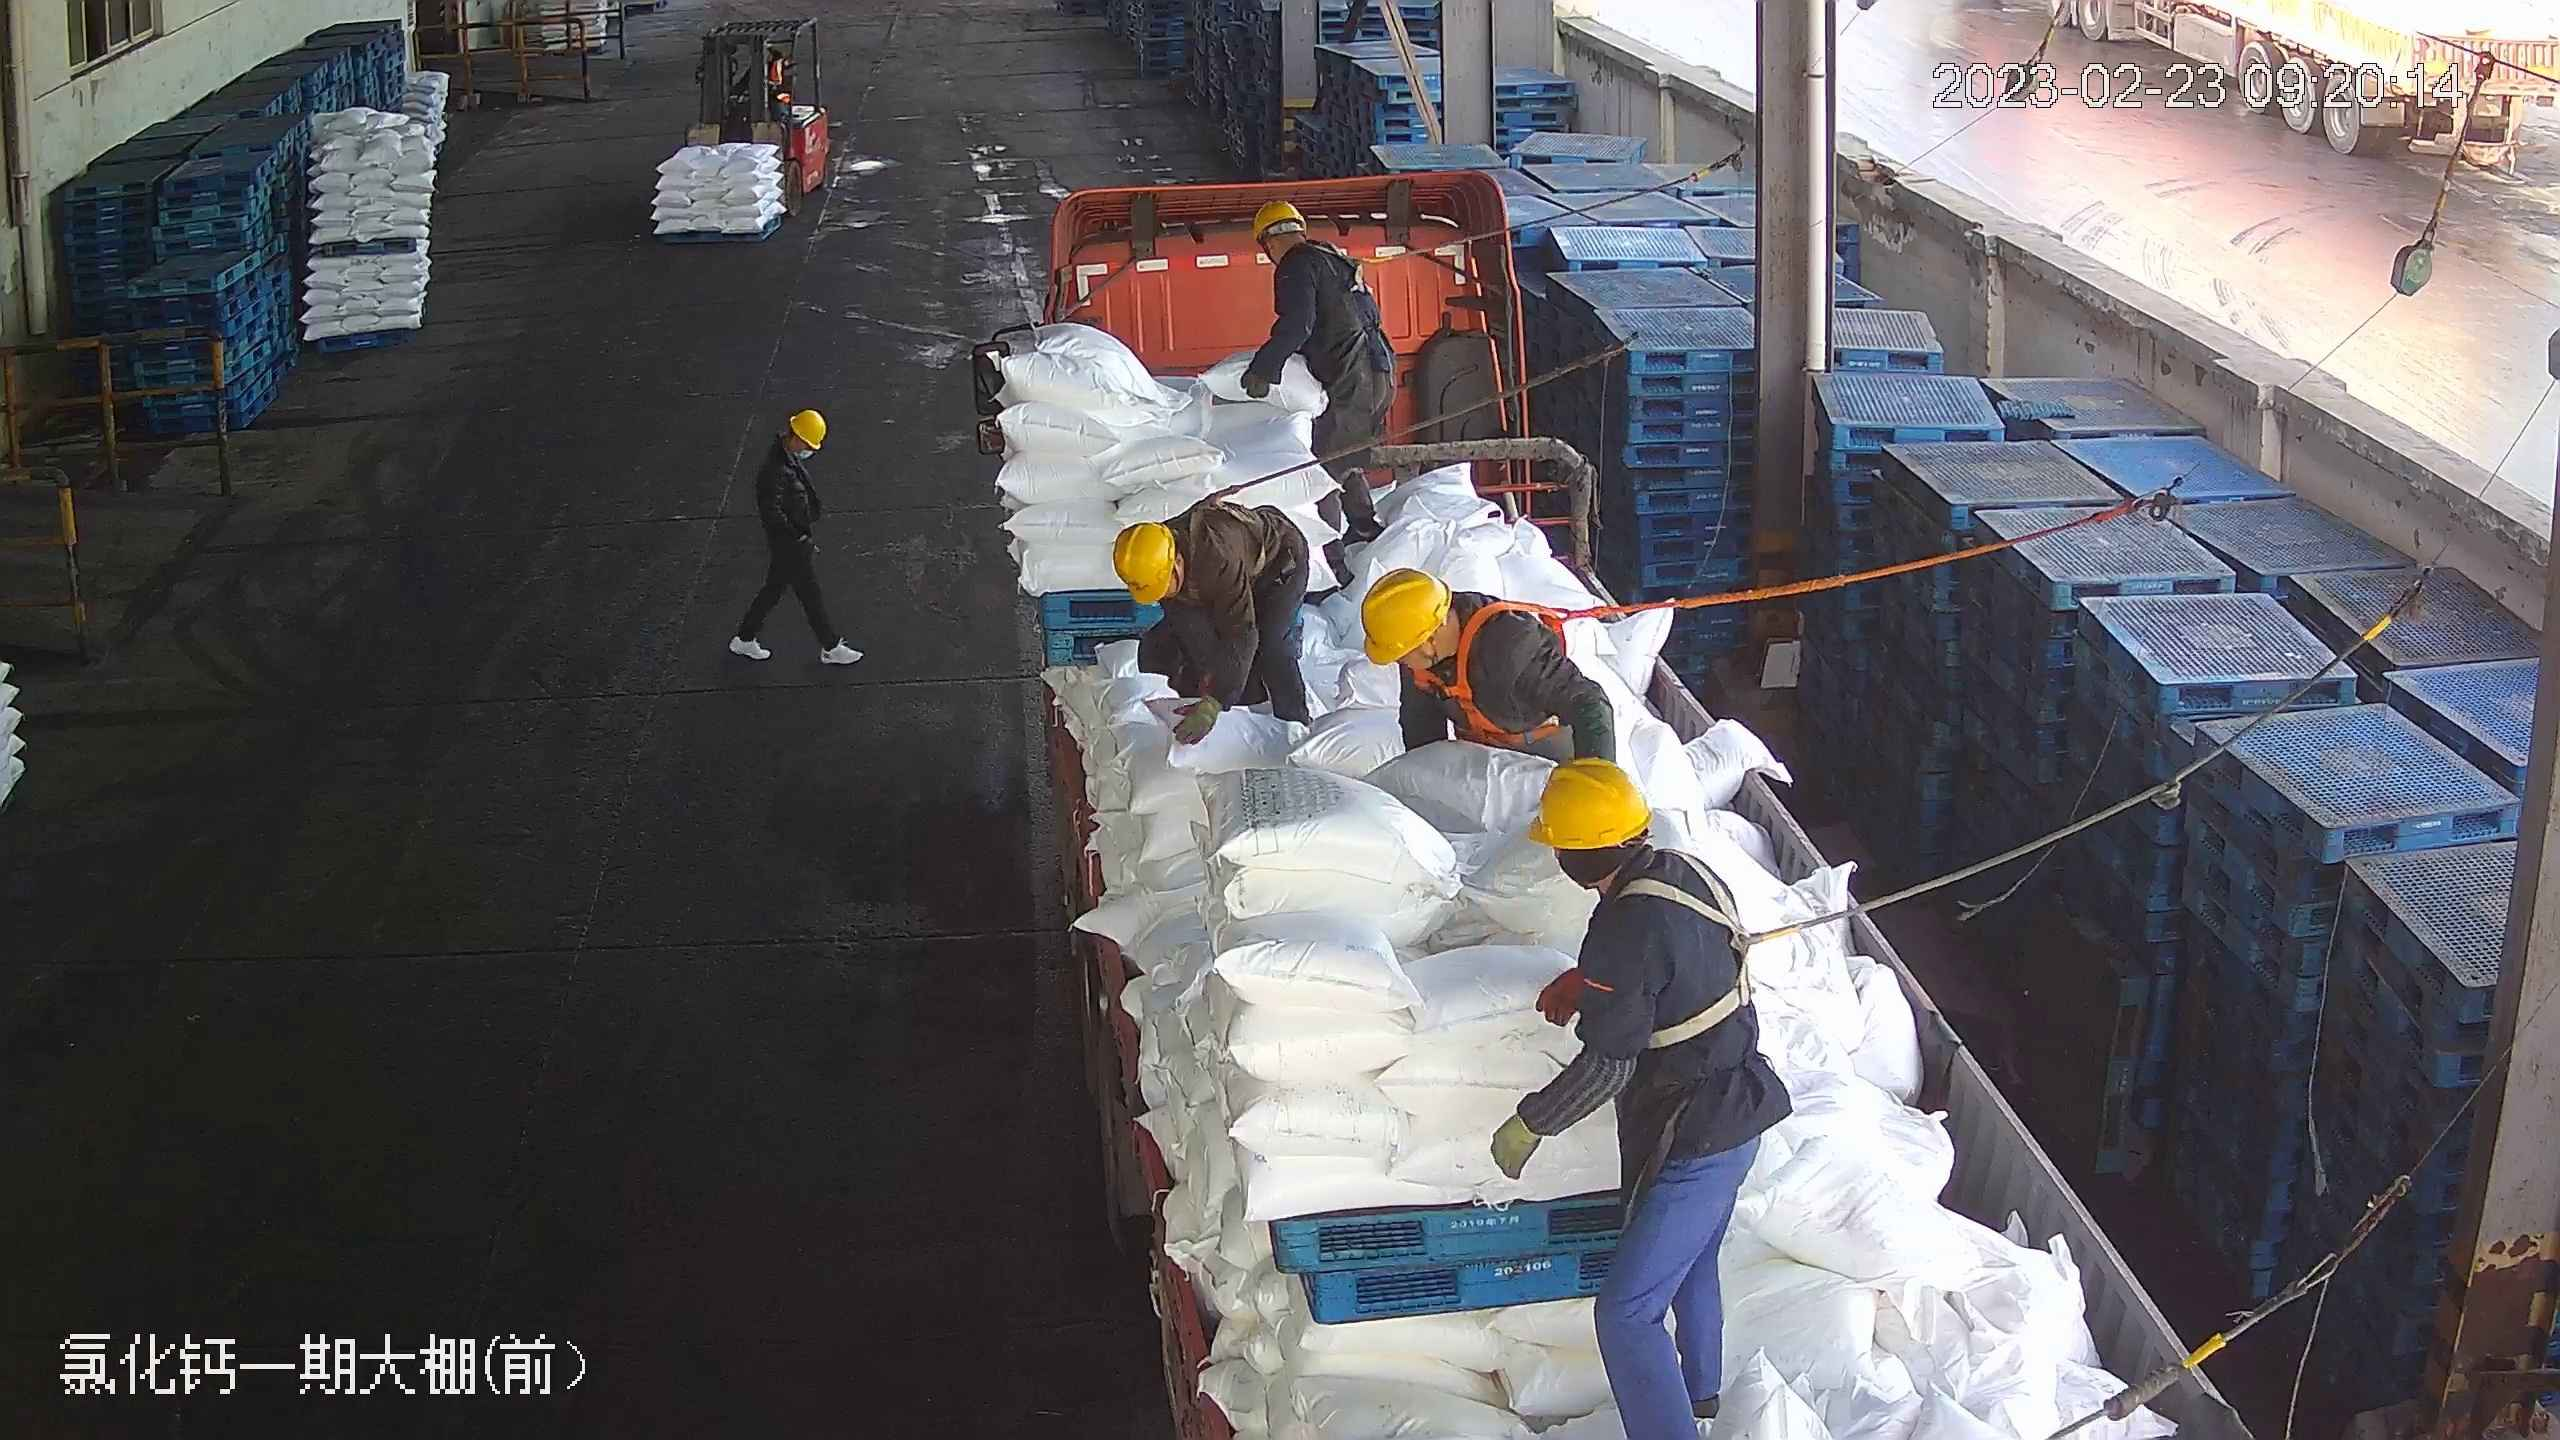belt: (1616, 848, 1802, 1044), (1417, 595, 1608, 746), (1175, 482, 1277, 583), (1312, 238, 1395, 290)
head: (1530, 755, 1744, 966), (1360, 565, 1545, 705), (1108, 512, 1244, 621), (1245, 199, 1355, 296), (756, 407, 834, 494)
helmet: (1528, 758, 1649, 847), (1359, 567, 1449, 665), (1111, 520, 1173, 604), (1246, 200, 1303, 245), (789, 407, 827, 447)
people: (1497, 756, 1796, 1431), (1232, 196, 1395, 572), (1109, 501, 1319, 740), (721, 404, 857, 669)
truck: (981, 166, 2253, 1437)
